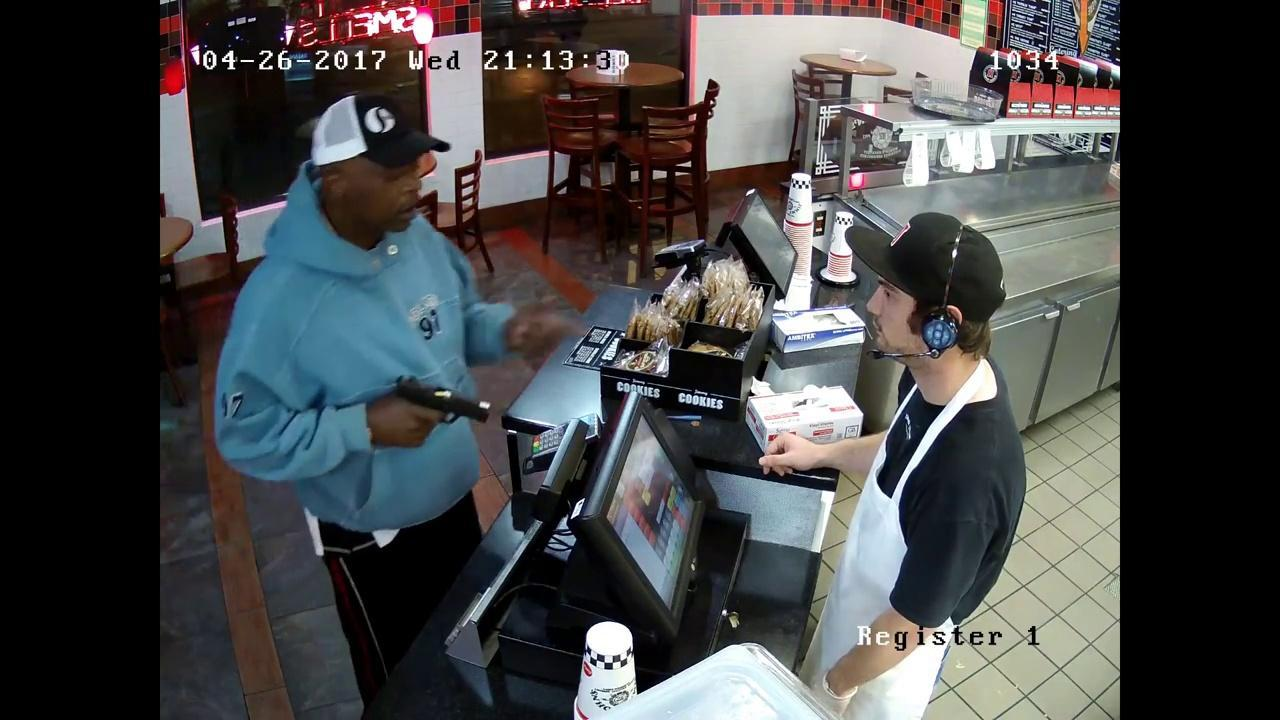Guns: (377, 367, 507, 436)
